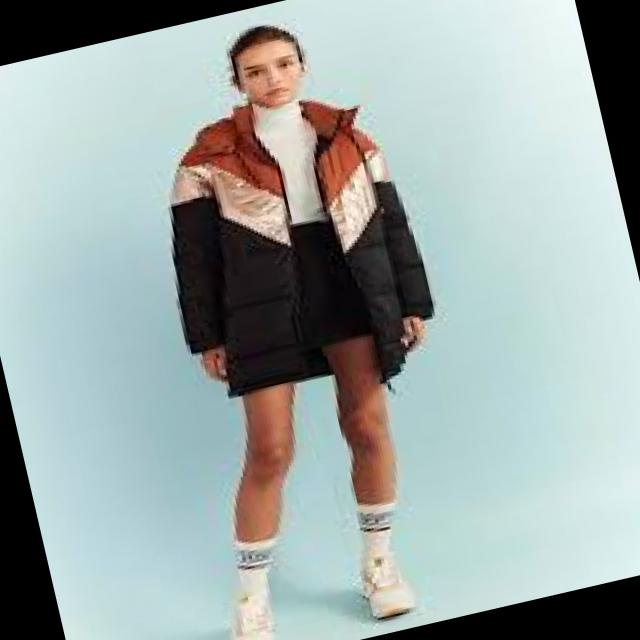Jacket: (111, 69, 435, 418)
